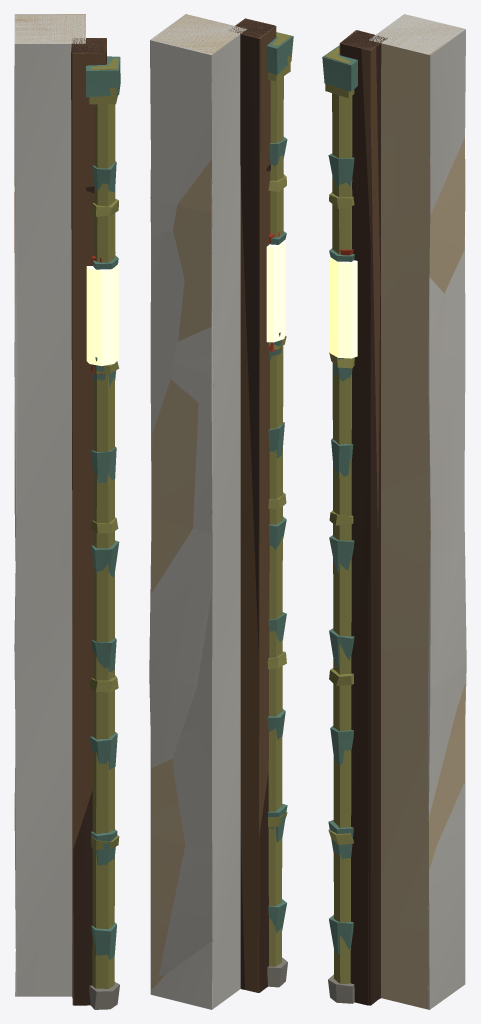
File: corner.inner.glb
3 renders of one model, left to right at view 1: azimuth 90°, elevation 25°; view 2: azimuth 150°, elevation 25°; view 3: azimuth 330°, elevation 25°, orthographic.
Parts seen in each view (by area): view 1: corner.inner.v2.mesh, corner.inner.v1.mesh, corner.inner.v0.mesh; view 2: corner.inner.v2.mesh, corner.inner.v1.mesh, corner.inner.v0.mesh; view 3: corner.inner.v1.mesh, corner.inner.v0.mesh, corner.inner.v2.mesh.
Boxes of the visible parts, x1,y1,x2,y2 form: corner.inner.v2.mesh: [14, 14, 119, 997]; corner.inner.v1.mesh: [14, 14, 119, 1005]; corner.inner.v0.mesh: [14, 14, 120, 1009]; corner.inner.v2.mesh: [150, 14, 285, 1008]; corner.inner.v1.mesh: [150, 14, 291, 992]; corner.inner.v0.mesh: [149, 15, 293, 1009]; corner.inner.v1.mesh: [324, 16, 465, 1009]; corner.inner.v0.mesh: [322, 14, 466, 1005]; corner.inner.v2.mesh: [330, 16, 465, 1009].
Bounding box in the file's own units: 0.3032 × 3 × 0.3036.
